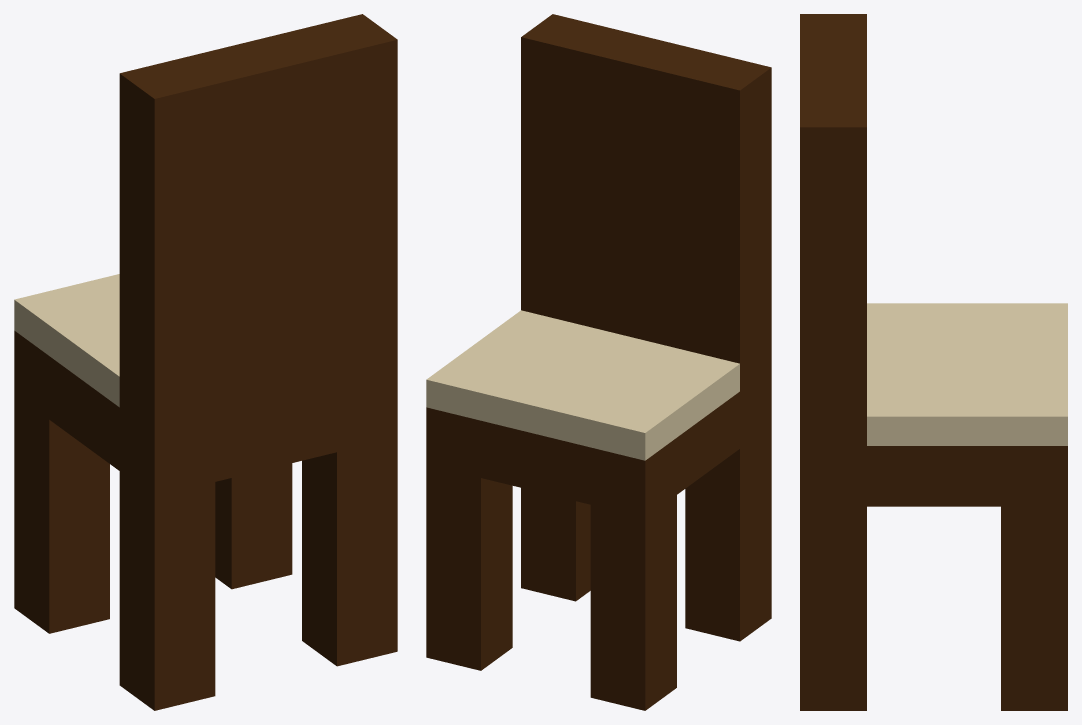
Rendered from stuhl.fbx.
3 renders of one model, left to right at view 1: azimuth 30°, elevation 25°; view 2: azimuth 150°, elevation 25°; view 3: azimuth 270°, elevation 25°, orthographic. The views are drawn at different scales.
Visible parts, largest first — view 1: Cube; view 2: Cube; view 3: Cube.
Part boxes in pixels (<box>): Cube: <box>14,14,397,710</box>; Cube: <box>426,14,771,710</box>; Cube: <box>800,14,1067,710</box>.
Size of the model in its own units: 50 by 120 by 50.
